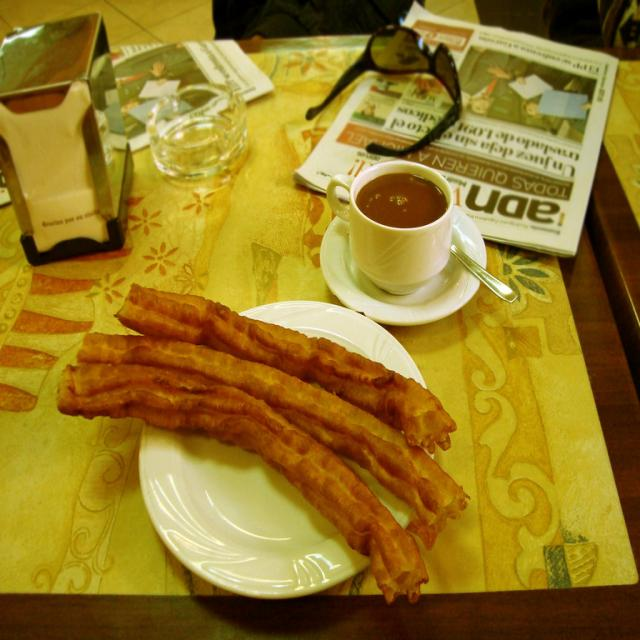Tea: (357, 172, 445, 228)
